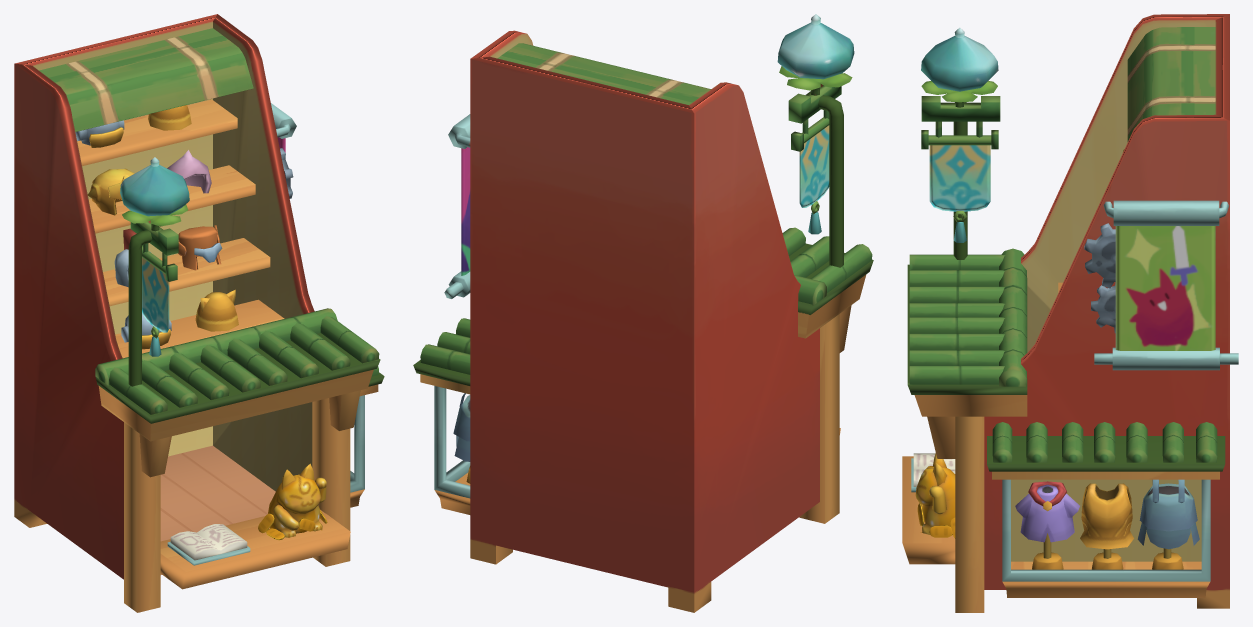
File: SM_EquipmentStall_lv3.fbx
The picture shows the model from 3 angles, left to right: view 1: azimuth 30°, elevation 25°; view 2: azimuth 150°, elevation 25°; view 3: azimuth 270°, elevation 25°; orthographic projection. The views are drawn at different scales.
Parts seen in each view (by area): view 1: SM_Equipment_Stall_lv3; view 2: SM_Equipment_Stall_lv3; view 3: SM_Equipment_Stall_lv3.
Boxes of the visible parts, x1=… form: SM_Equipment_Stall_lv3: x1=14, y1=14, x2=384, y2=612; SM_Equipment_Stall_lv3: x1=413, y1=14, x2=873, y2=612; SM_Equipment_Stall_lv3: x1=902, y1=14, x2=1238, y2=612.
Size of the model in its own units: 488 by 776 by 483.
